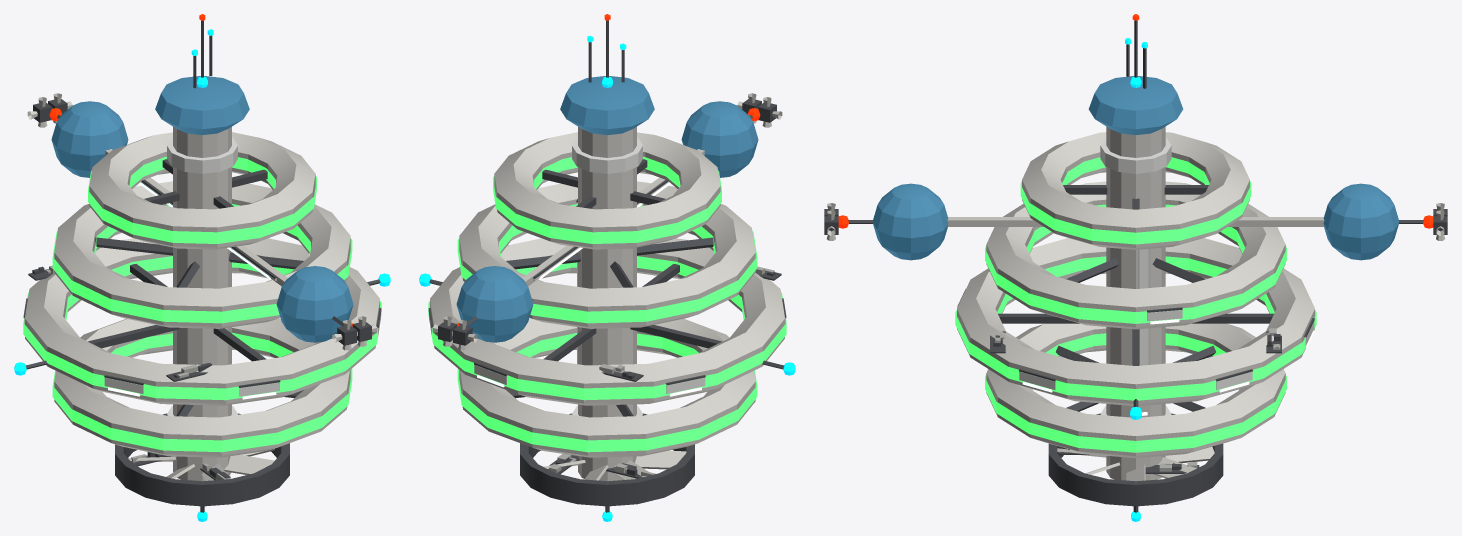
File: life_support_fab.glb
3 views of the same model, side by side, from view 1: azimuth 30°, elevation 25°; view 2: azimuth 150°, elevation 25°; view 3: azimuth 270°, elevation 25° (orthographic).
Visible parts, largest first — view 1: life_support_fab; view 2: life_support_fab; view 3: life_support_fab.
Part boxes in pixels (<box>): life_support_fab: <box>14,14,390,521</box>; life_support_fab: <box>419,14,795,521</box>; life_support_fab: <box>824,14,1447,521</box>.
Bounding box in the file's own units: 1.39 × 1.8 × 2.
